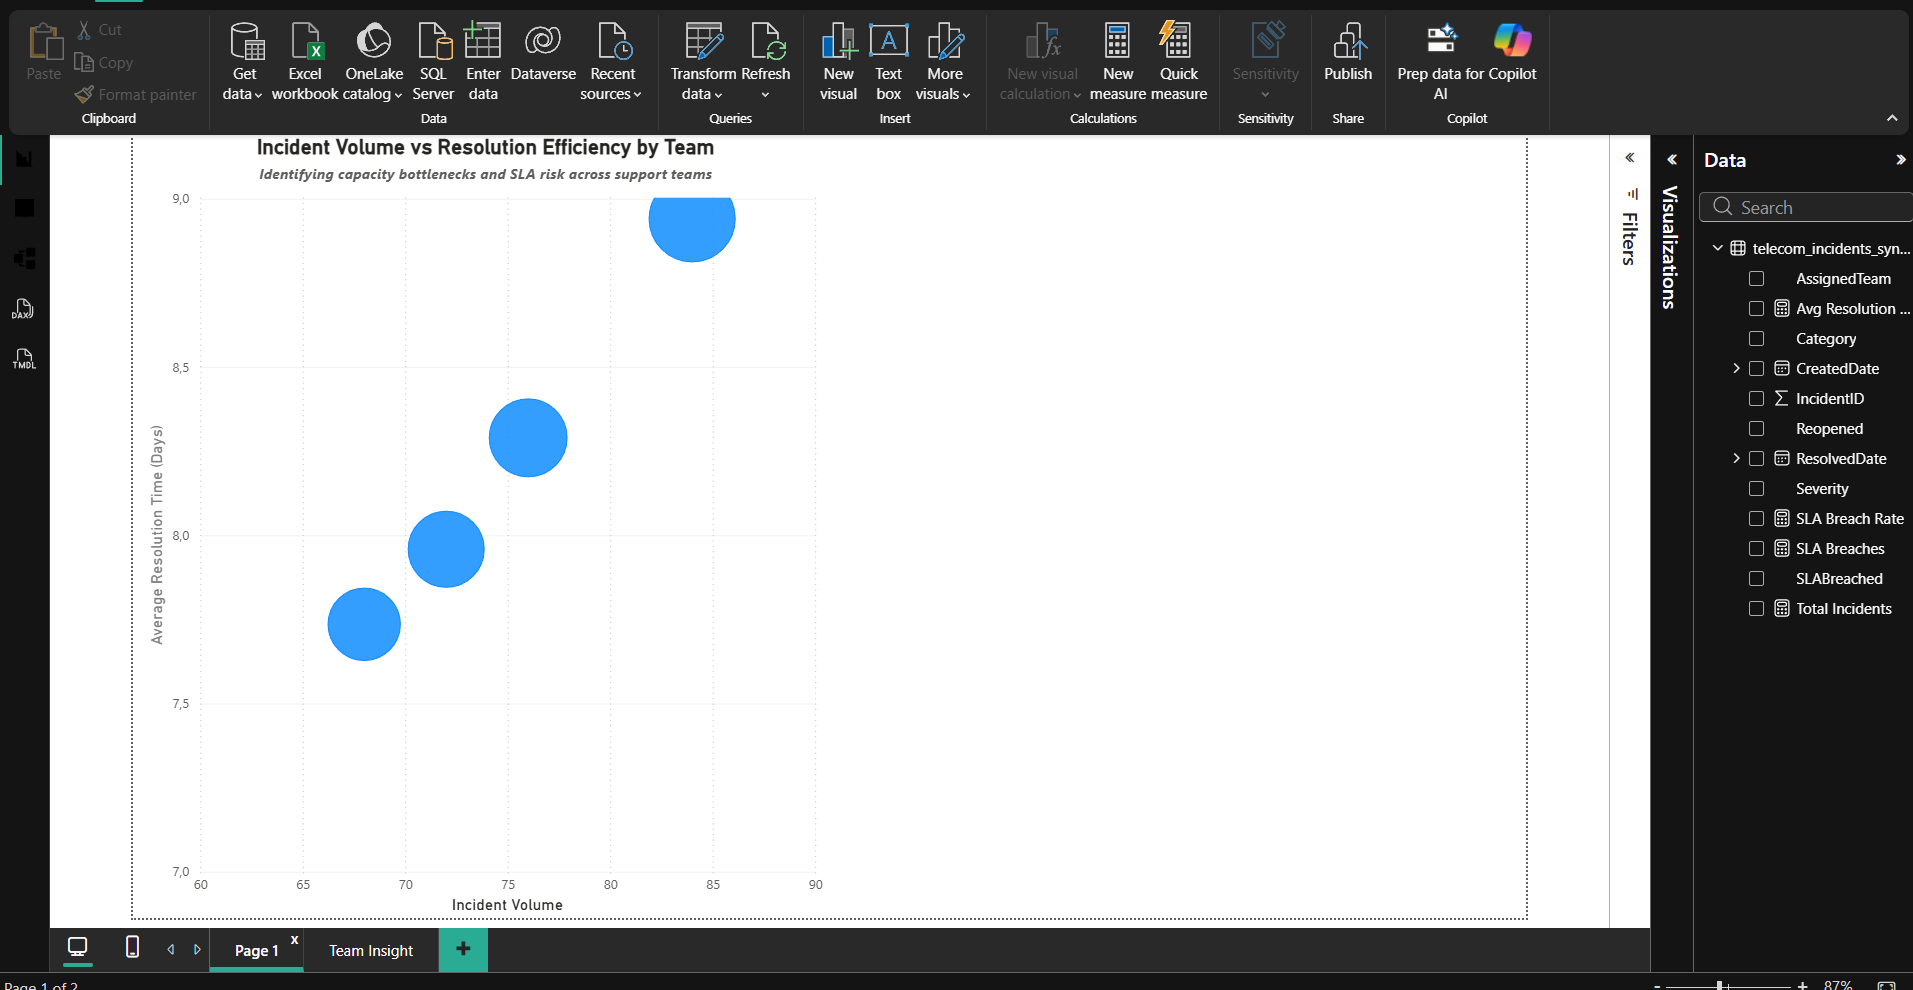

What the dashboard file says about the page in this screenshot:
{"tool":"powerbi","page":{"name":"Page 1","canvas":[1280,720],"ordinal":0},"visuals":[{"type":"scatterChart","title":"Incident Volume vs Resolution Efficiency by Team","fields":{"X":["telecom_incidents_synthetic.Total Incidents"],"Y":["telecom_incidents_synthetic.Avg Resolution Days"],"Size":["telecom_incidents_synthetic.SLA Breaches"],"Category":["telecom_incidents_synthetic.AssignedTeam"]},"box":[9.6,0,629.8,720.4],"z":0}]}

Visuals, with their boxes on the page's 1280x720 design canvas (x1, y1, x2, y2). These are canvas units, not pixel positions in the 1913x990 screenshot, which may show the page scaled, cropped or inside an application window:
"Incident Volume vs Resolution Efficiency by Team" scatterChart: [left=10, top=0, right=639, bottom=720]
